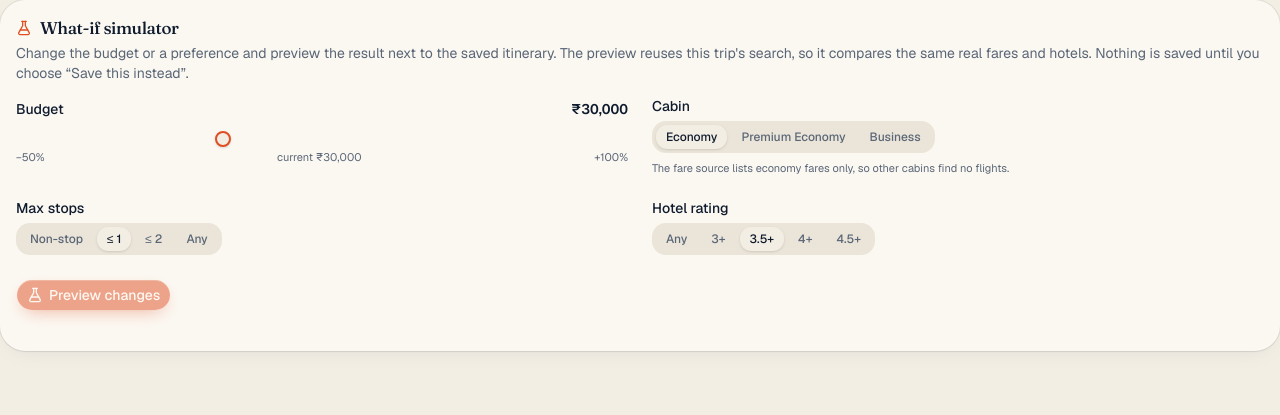
ServerWhatIf › says why when no itinerary can be built
Click the radio button labelled "Business": {"x": 895, "y": 137} [860,125,931,149]
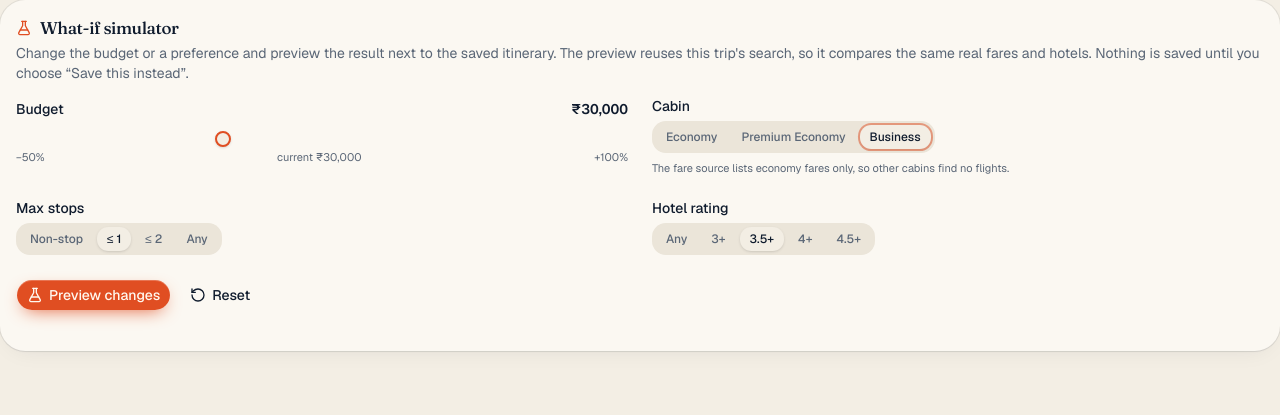
Click the button "Preview changes": {"x": 94, "y": 295} [16,279,171,311]
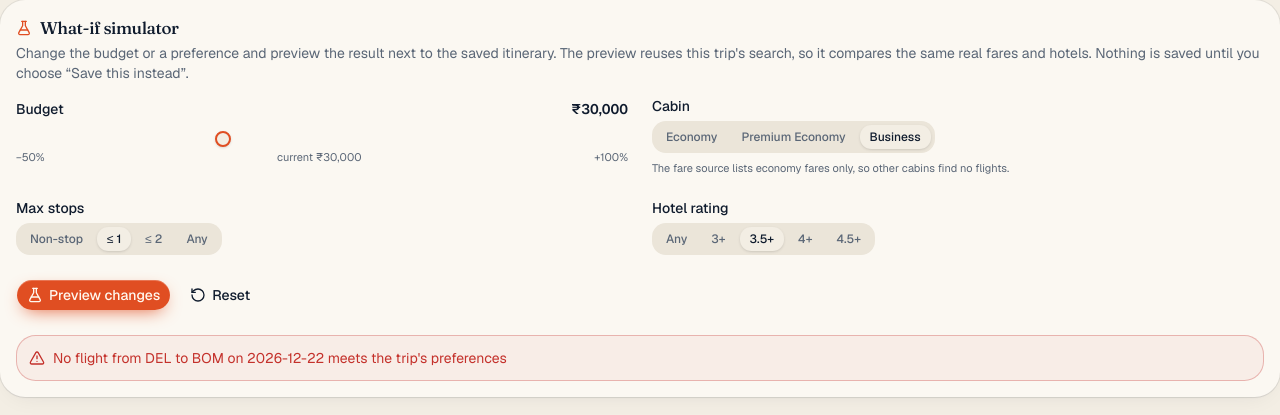
Expected: the text "meets the trip's preferences" is shown, [53,349,507,367]
